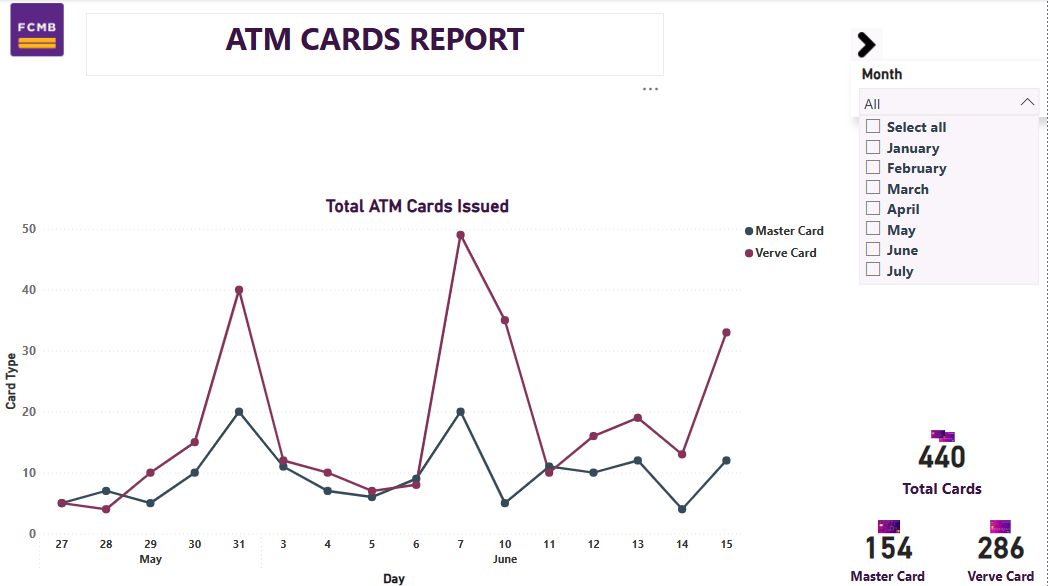

This screenshot's page, from the dashboard's own definition file:
{"tool":"powerbi","page":{"name":"ATM Cards","canvas":[1280,720],"ordinal":0},"visuals":[{"type":"card","fields":{"Values":["Sum(ATM Data.Cards Issued)"]},"box":[1081.2,369.4,198.2,101.8],"z":3000},{"type":"card","fields":{"Values":["Max(ATM Data.Cards Issued)"]},"box":[1080.4,572.6,199.6,108.7],"z":3000},{"type":"actionButton","box":[1233.2,28.9,38.5,41.3],"z":4000},{"type":"lineChart","title":"ATM CARDS ISSUED DAILY","fields":{"Y":["Sum(ATM Data.Cards Issued)"],"Category":["ATM Data.Date.Variation.Date Hierarchy.Month","ATM Data.Date.Variation.Date Hierarchy.Day"]},"box":[0,220.2,1040.5,499.6],"z":6062},{"type":"slicer","fields":{"Values":["ATM Data.Date.Variation.Date Hierarchy.Month"]},"box":[1048.3,78.1,214.8,68.3],"z":6125},{"type":"textbox","box":[161,13.8,717.1,61.9],"z":6250},{"type":"image","box":[0,0,92.1,75.4],"z":6500}]}

Visuals, with their boxes on the page's 1280x720 design canvas (x1, y1, x2, y2). These are canvas units, not pixel positions in the 1048x586 screenshot, which may show the page scaled, cropped or inside an application window:
card - Sum(ATM Data.Cards Issued): Rect(1081, 369, 1279, 471)
card - Max(ATM Data.Cards Issued): Rect(1080, 573, 1280, 681)
actionButton: Rect(1233, 29, 1272, 70)
"ATM CARDS ISSUED DAILY" lineChart: Rect(0, 220, 1040, 720)
slicer - ATM Data.Date.Variation.Date Hierarchy.Month: Rect(1048, 78, 1263, 146)
textbox: Rect(161, 14, 878, 76)
image: Rect(0, 0, 92, 75)
